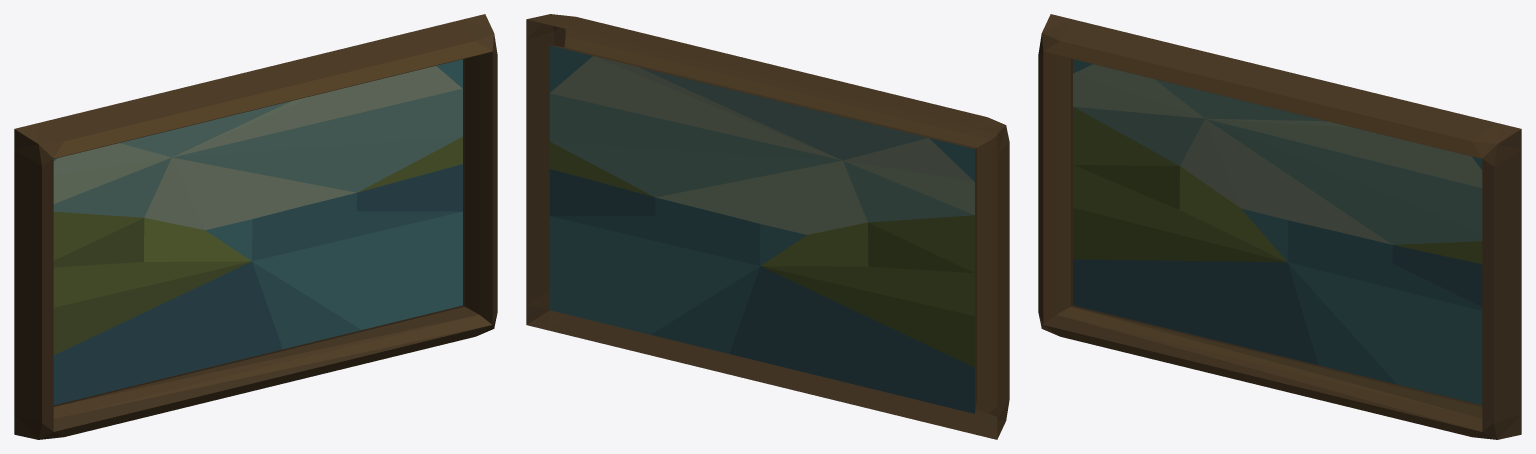
Rendered from painting_big_sea.fbx.
3 renders of one model, left to right at view 1: azimuth 30°, elevation 25°; view 2: azimuth 150°, elevation 25°; view 3: azimuth 330°, elevation 25°, orthographic.
Visible parts, largest first — view 1: painting_big_sea; view 2: painting_big_sea; view 3: painting_big_sea.
Boxes of the visible parts, x1=… form: painting_big_sea: x1=14, y1=14, x2=497, y2=439; painting_big_sea: x1=526, y1=14, x2=1009, y2=439; painting_big_sea: x1=1038, y1=14, x2=1521, y2=439.
Bounding box in the file's own units: 147 × 91.06 × 12.63.
